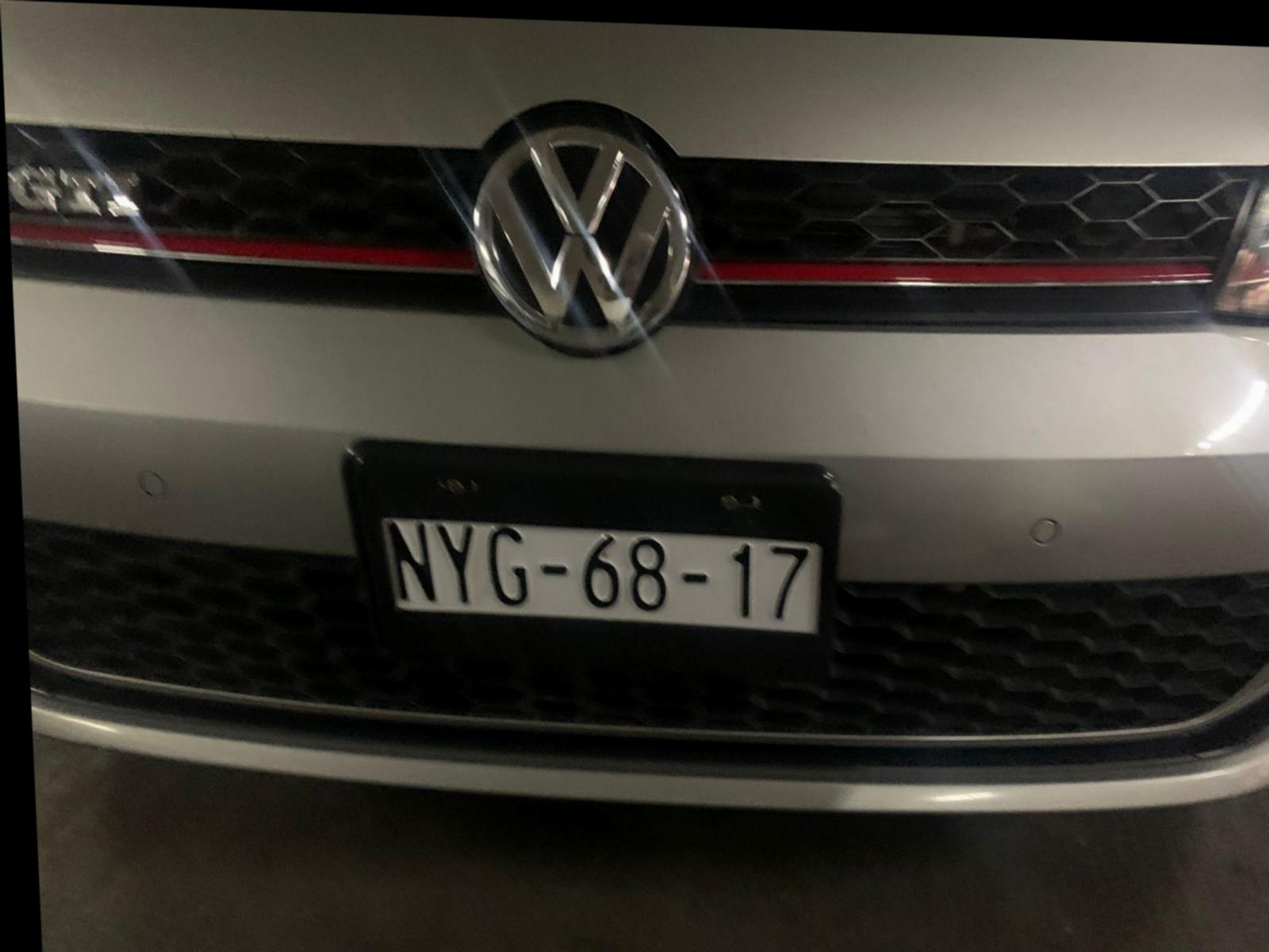License_Plate: (313, 418, 866, 692)
